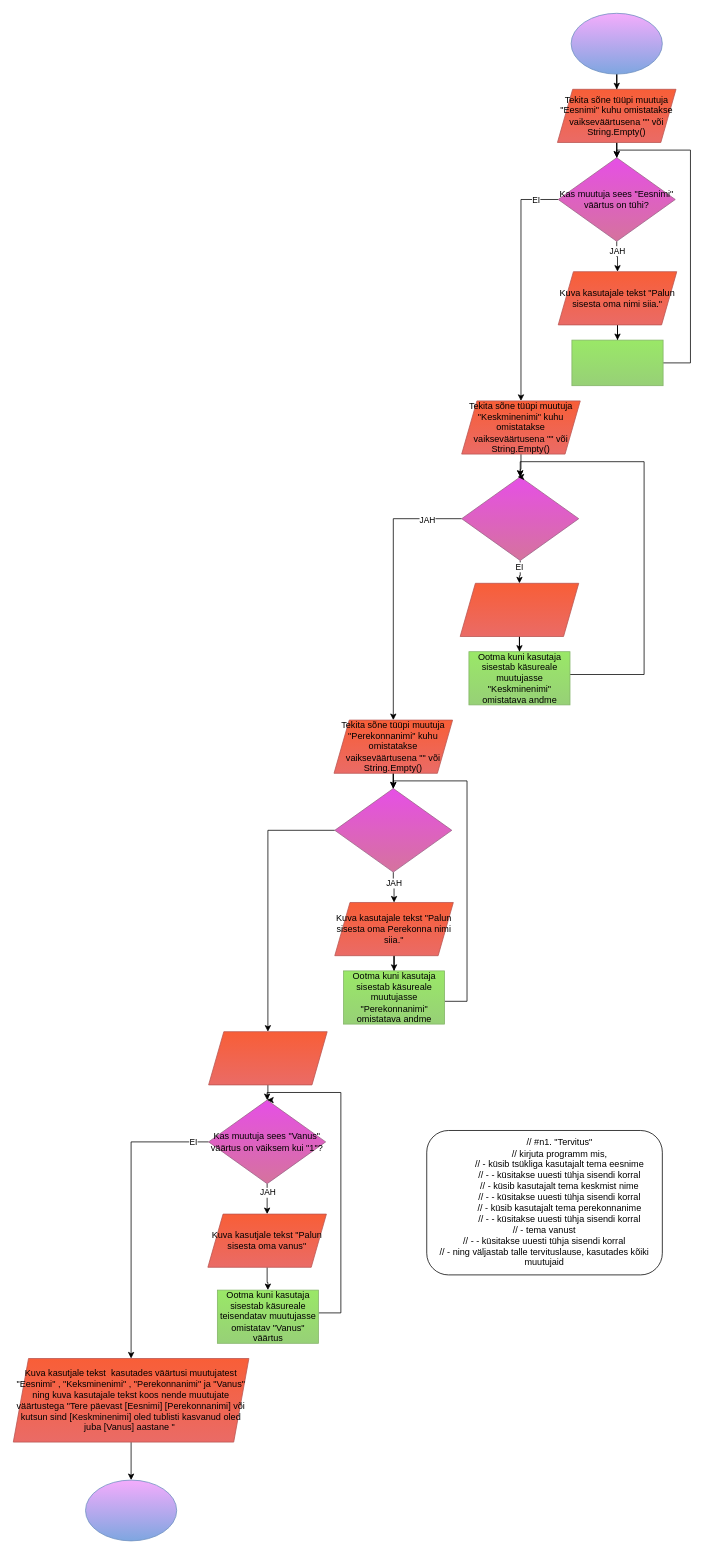
Image size: 710x1554. Some labels were removed from this diagram. The box of each missing label's shape, as (x1, y1, x2, y2) in pixels:
ALGUS: (570, 13, 662, 74)
Kas muutuja sees "Keskminenimi" väärtus on midagi muud kui tühi?: (461, 476, 579, 560)
Kas muutuja sees "Perekonnanimi" väärtus on tühi?: (334, 788, 452, 872)
Kuva kasutajale tekst "Palun sisesta oma Keskmine nimi siia.": (459, 583, 579, 636)
LÕPP: (85, 1479, 177, 1541)
Ootma kuni kasutaja sisestab käsureale muutujasse "Eesnimi" omistatava andme: (571, 339, 663, 386)
Tekitame täisarvu tüüpi muutuja "Vanus" kuhu omistatakse vaikeväärtusena arv "0": (208, 1031, 327, 1085)
